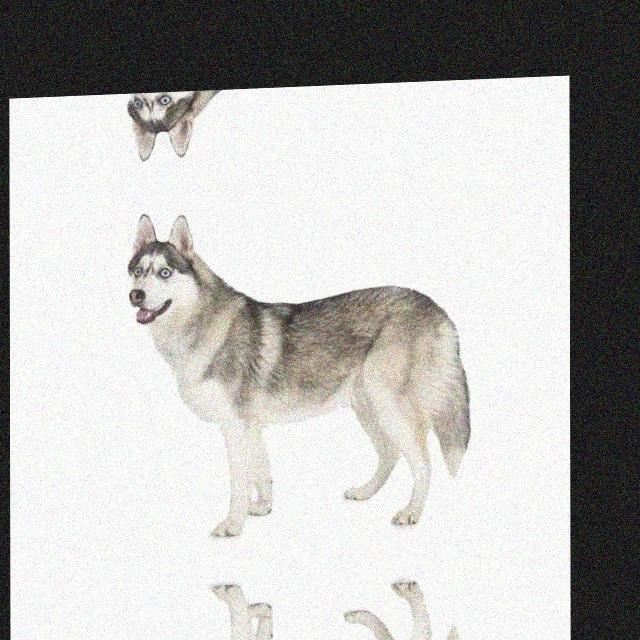dog: (67, 193, 455, 534), (67, 80, 455, 170), (68, 584, 456, 640)
